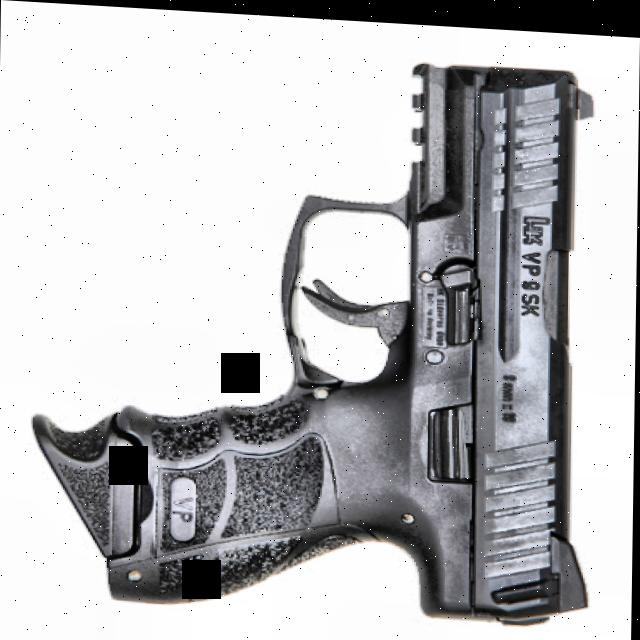HKVP9: (31, 36, 602, 627)
